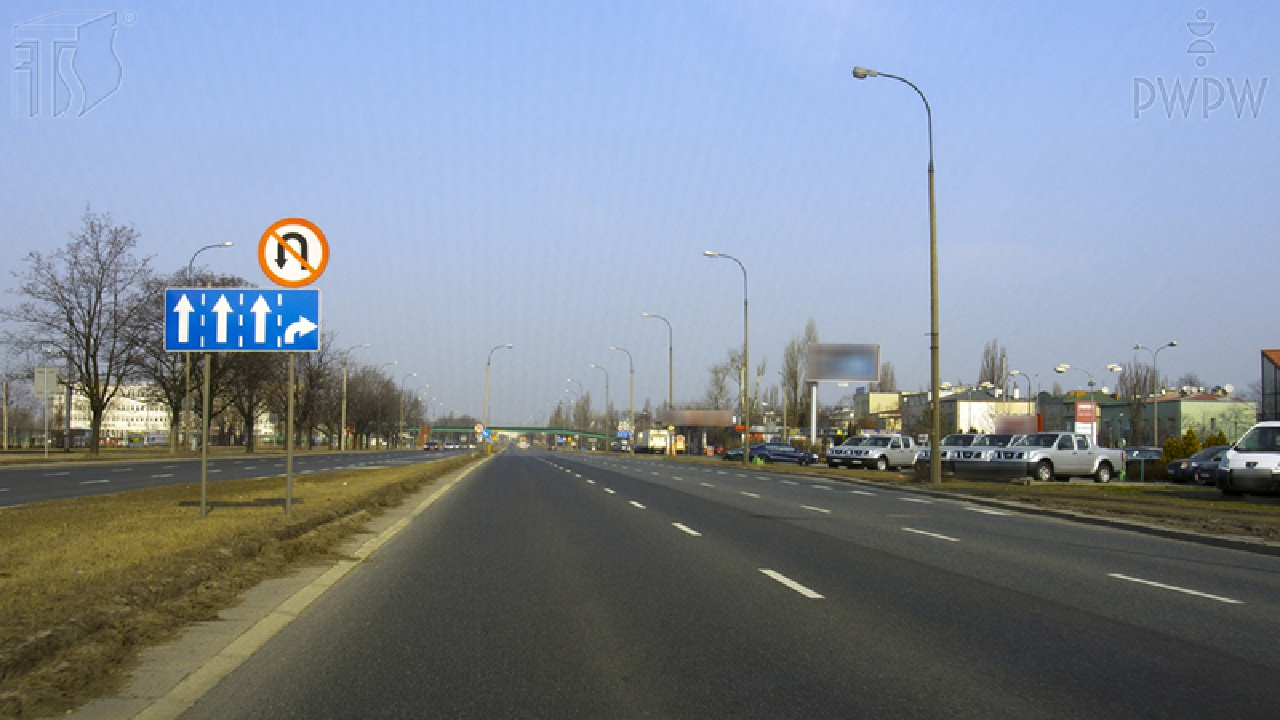B23: (259, 217, 330, 289)
